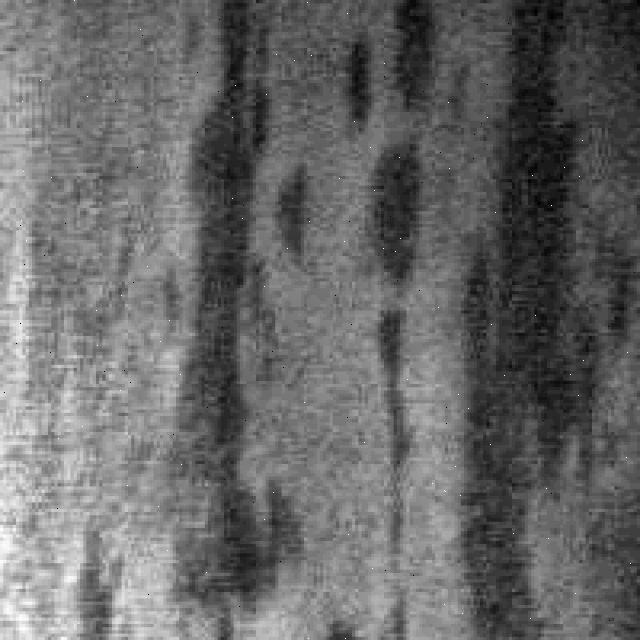Patches: (454, 0, 604, 624), (160, 0, 297, 614), (332, 0, 419, 630), (58, 518, 116, 634)
